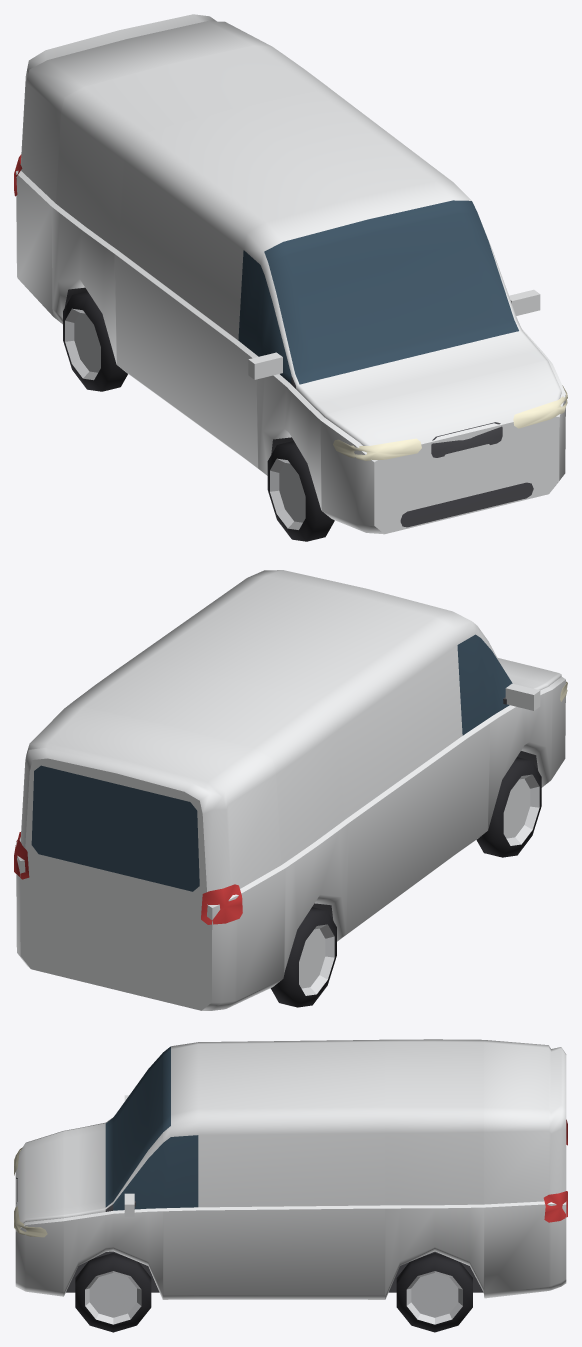
File: scatter3.fbx
The picture shows the model from 3 angles, top to bottom: view 1: azimuth 30°, elevation 25°; view 2: azimuth 150°, elevation 25°; view 3: azimuth 270°, elevation 25°; orthographic projection. The views are drawn at different scales.
Parts seen in each view (by area): view 1: a1041/0/scatter3; view 2: a1041/0/scatter3; view 3: a1041/0/scatter3.
Boxes of the visible parts, x1=… form: a1041/0/scatter3: x1=14, y1=14, x2=567, y2=541; a1041/0/scatter3: x1=14, y1=570, x2=567, y2=1010; a1041/0/scatter3: x1=14, y1=1039, x2=567, y2=1332.
Bounding box in the file's own units: 2.07 × 1.91 × 4.43.
